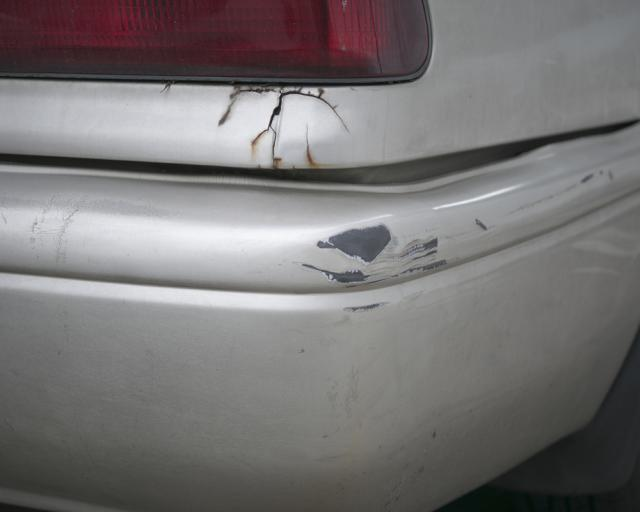crack: (236, 86, 352, 167)
scratch: (295, 165, 619, 317)
